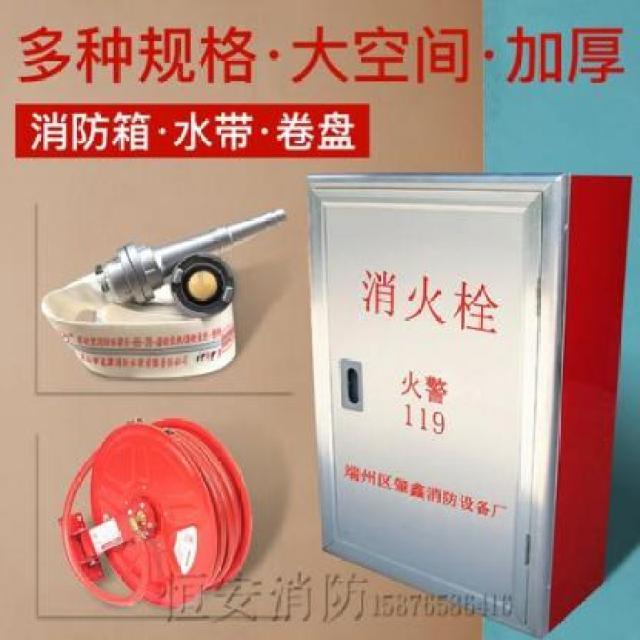firehydrant: (303, 167, 637, 640)
